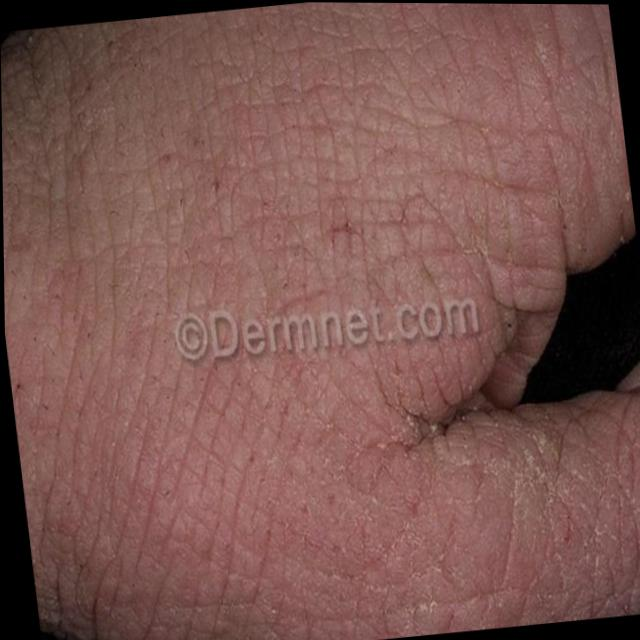liquenificacion 1: (1, 2, 640, 640)
liquenificacion 2: (1, 2, 640, 640)
